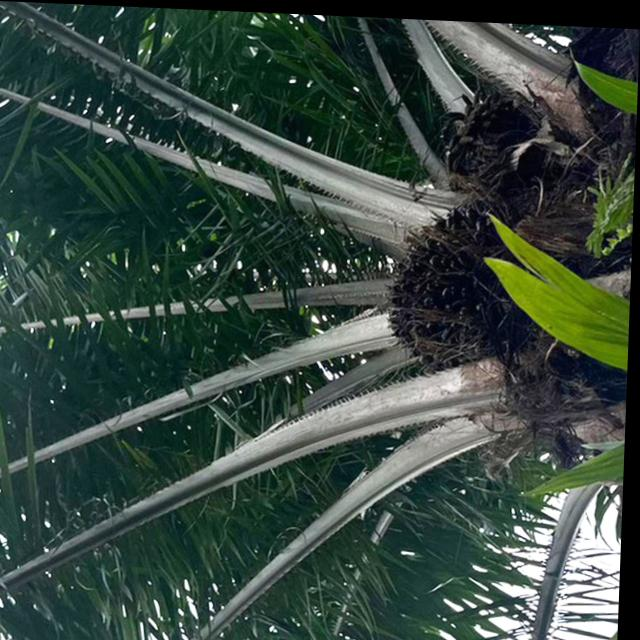almost: (358, 181, 525, 378)
